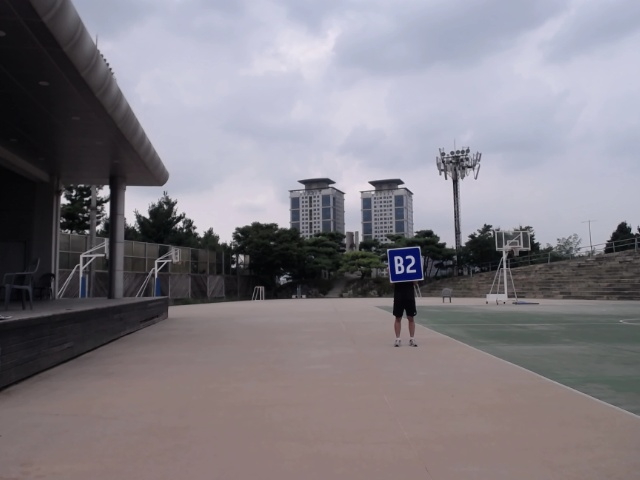delivery_b2: (386, 247, 424, 285)
